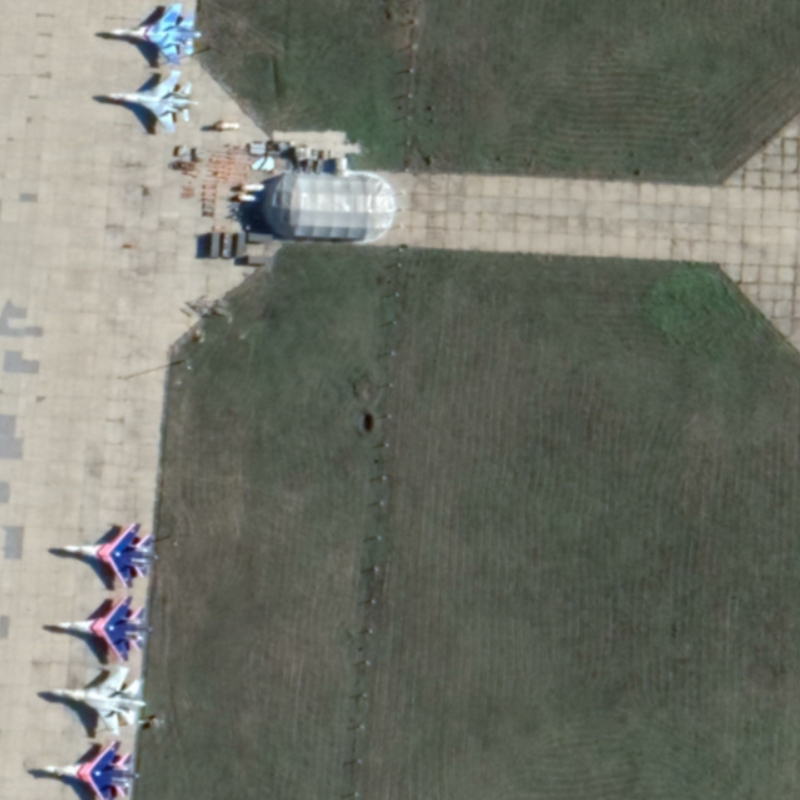A1: (51, 665, 148, 737), (55, 594, 156, 663), (62, 520, 160, 591), (40, 738, 142, 800), (108, 2, 204, 67), (107, 68, 201, 134)
